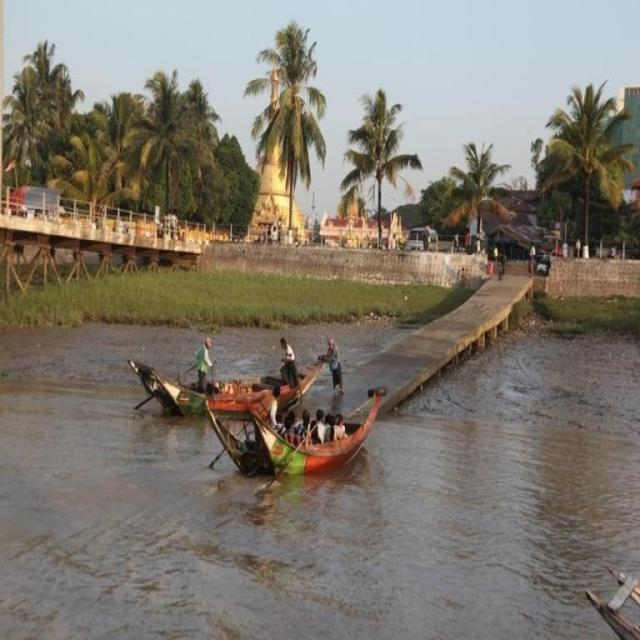boat: (111, 356, 344, 419), (248, 390, 392, 476)
